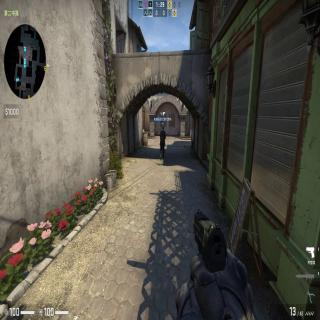CT-Body: (160, 126, 166, 160)
